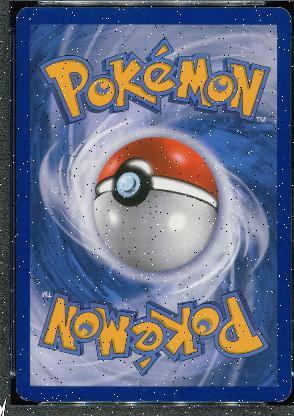Card: (10, 3, 292, 404), (276, 5, 290, 21)
Corner Wear: (14, 380, 39, 404), (13, 4, 29, 24), (273, 386, 291, 402)
Edge Wear: (110, 6, 138, 7)
Scratch: (119, 20, 138, 24), (273, 220, 281, 224)
